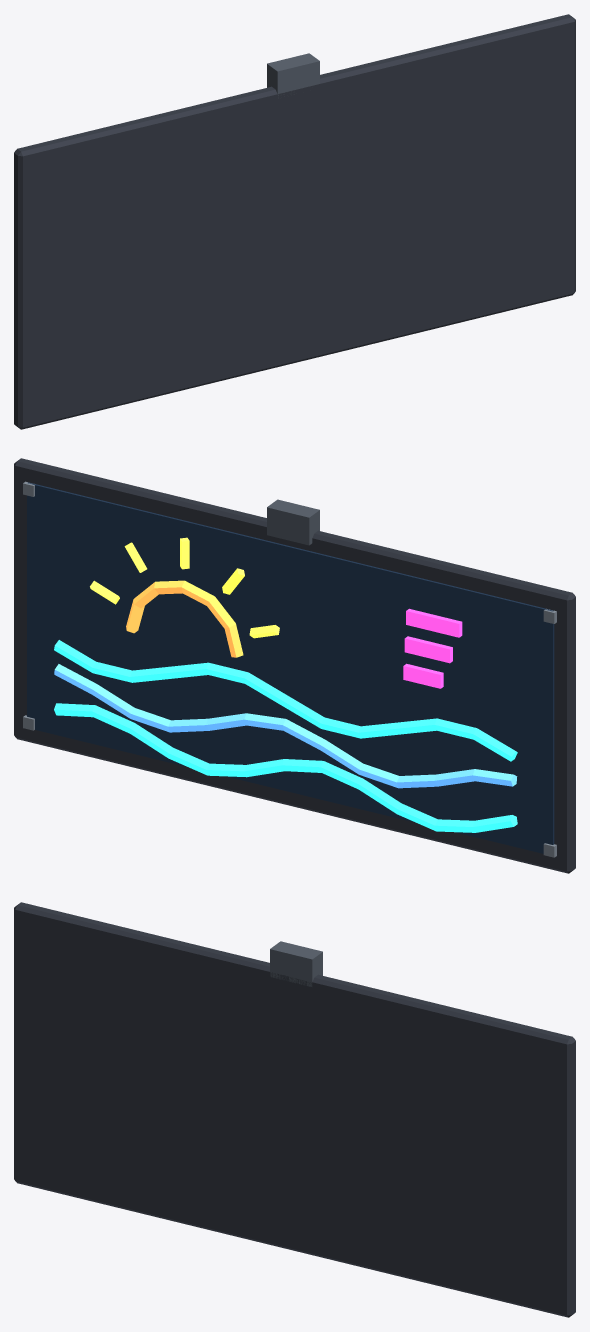
Rendered from neon_sign_c.glb.
The picture shows the model from 3 angles, top to bottom: view 1: azimuth 30°, elevation 25°; view 2: azimuth 150°, elevation 25°; view 3: azimuth 330°, elevation 25°; orthographic projection.
Parts seen in each view (by area): view 1: neon_sign_c; view 2: neon_sign_c; view 3: neon_sign_c.
Boxes of the visible parts, x1=… form: neon_sign_c: x1=14, y1=14, x2=575, y2=429; neon_sign_c: x1=14, y1=458, x2=575, y2=873; neon_sign_c: x1=14, y1=902, x2=575, y2=1317.
Bounding box in the file's own units: 2.1 × 1.07 × 0.1059.
